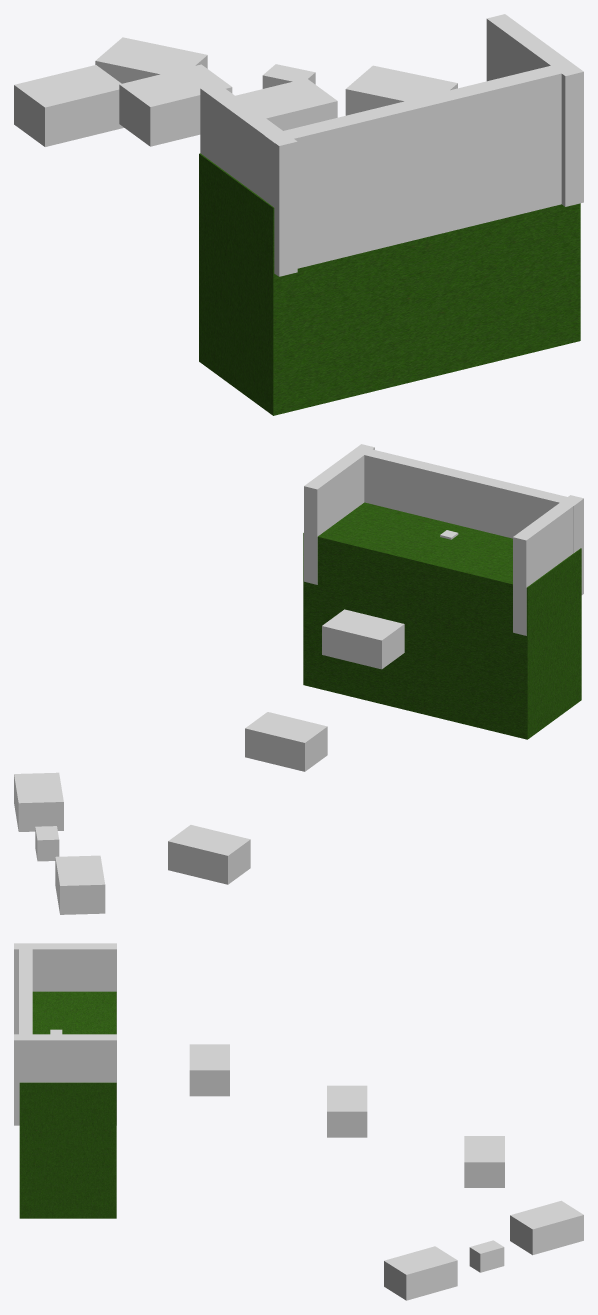
Rendered from ground.glb.
3 renders of one model, top to bottom at view 1: azimuth 30°, elevation 25°; view 2: azimuth 150°, elevation 25°; view 3: azimuth 270°, elevation 25°, orthographic. The views are drawn at different scales.
Visible parts, largest first — view 1: Cube, Cube.004, Cube.003, Cube.005, Cube.001, Cube.006, Cube.002, Cube.008, Cube.007, Cube.009; view 2: Cube, Cube.004, Cube.003, Cube.001, Cube.002, Cube.005, Cube.006, Cube.007, Cube.008, Cube.009; view 3: Cube, Cube.001, Cube.003, Cube.008, Cube.007, Cube.002, Cube.006, Cube.005, Cube.004, Cube.009.
Part boxes in pixels (box(x1,y1,x2,y2)): Cube: box(199, 153, 580, 415); Cube.004: box(264, 61, 579, 273); Cube.003: box(200, 84, 297, 276); Cube.005: box(14, 65, 123, 146); Cube.001: box(486, 14, 583, 206); Cube.006: box(119, 64, 232, 146); Cube.002: box(235, 78, 337, 130); Cube.008: box(345, 65, 457, 115); Cube.007: box(95, 37, 207, 83); Cube.009: box(262, 64, 315, 88); Cube: box(303, 502, 581, 739); Cube.004: box(351, 447, 581, 553); Cube.003: box(513, 495, 583, 635); Cube.001: box(304, 444, 374, 584); Cube.002: box(322, 609, 404, 669); Cube.005: box(168, 825, 250, 884); Cube.006: box(245, 712, 327, 771); Cube.007: box(55, 855, 105, 914); Cube.008: box(14, 772, 63, 831); Cube.009: box(35, 826, 59, 861); Cube: box(19, 991, 116, 1218); Cube.001: box(14, 1034, 116, 1125); Cube.003: box(14, 943, 116, 1034); Cube.008: box(384, 1246, 457, 1300); Cube.007: box(510, 1200, 583, 1255); Cube.002: box(189, 1044, 229, 1096); Cube.006: box(327, 1085, 367, 1137); Cube.005: box(464, 1136, 504, 1187); Cube.004: box(19, 943, 32, 1040); Cube.009: box(469, 1240, 504, 1272).
Size of the model in its own units: 96.89 by 61.4 by 152.
1 material, 1 textured.
